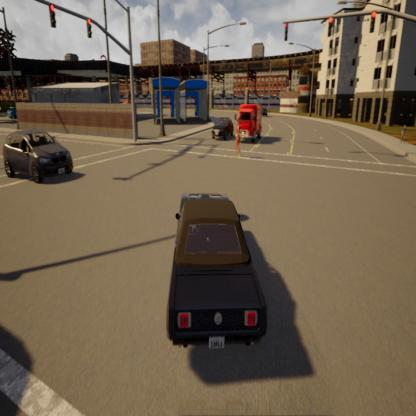Cars: (164, 192, 268, 357), (3, 126, 74, 185), (211, 115, 234, 140)
Pedestrian: (233, 123, 242, 159)
